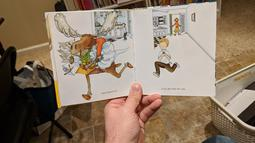text block: (158, 85, 189, 93), (100, 87, 122, 95)
